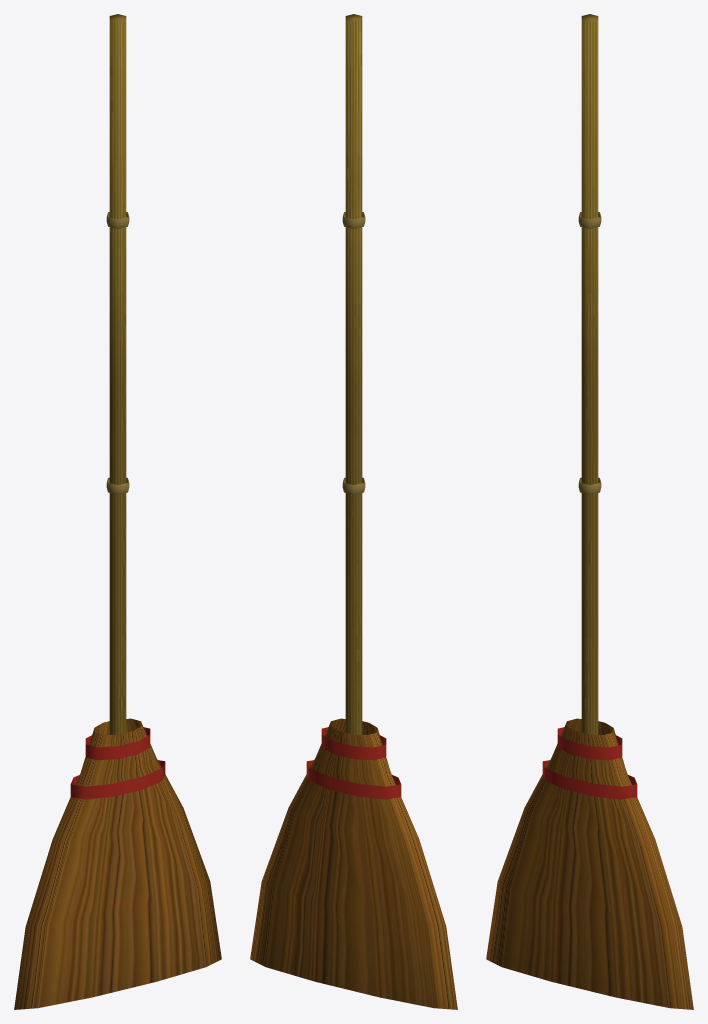
Rendered from broom.glb.
The picture shows the model from 3 angles, left to right: view 1: azimuth 30°, elevation 25°; view 2: azimuth 150°, elevation 25°; view 3: azimuth 330°, elevation 25°; orthographic projection.
Visible parts, largest first — view 1: BroomHead, BroomHandle, BroomCord0, BroomCord1; view 2: BroomHead, BroomHandle, BroomCord0, BroomCord1; view 3: BroomHead, BroomHandle, BroomCord0, BroomCord1.
Boxes of the visible parts, x1,y1,x2,y2 form: BroomHead: [14, 718, 221, 1009]; BroomHandle: [109, 14, 126, 734]; BroomCord0: [70, 760, 165, 799]; BroomCord1: [85, 727, 150, 760]; BroomHead: [250, 718, 457, 1009]; BroomHandle: [345, 14, 362, 734]; BroomCord0: [306, 760, 401, 799]; BroomCord1: [321, 727, 386, 760]; BroomHead: [486, 718, 693, 1009]; BroomHandle: [581, 14, 598, 734]; BroomCord0: [542, 760, 637, 799]; BroomCord1: [557, 727, 622, 760].
Size of the model in its own units: 0.27 by 1.2 by 0.0457.
Materials: 4 (2 with a texture image).
